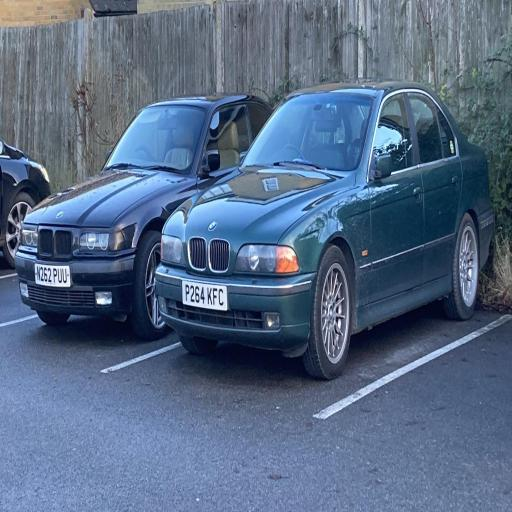numberplates: (182, 281, 227, 310), (35, 264, 70, 287)
